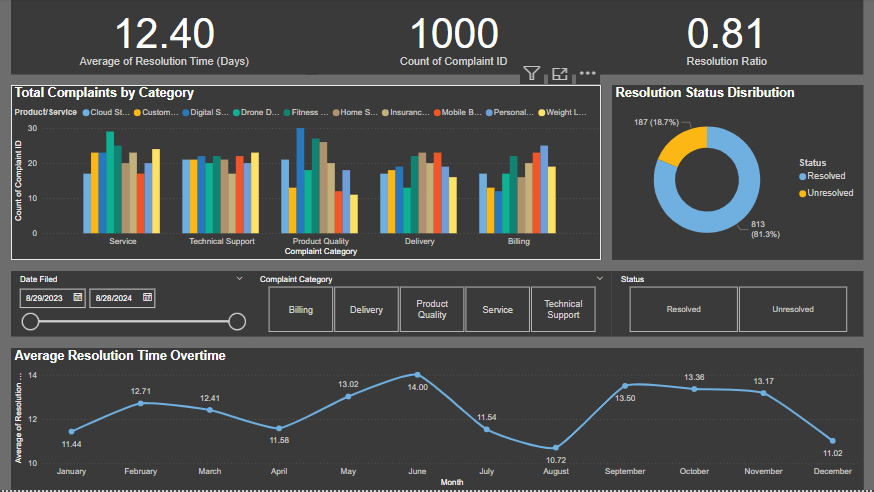

What the dashboard file says about the page in this screenshot:
{"tool":"powerbi","page":{"name":"Page 1","canvas":[1280,720],"ordinal":0},"visuals":[{"type":"card","fields":{"Values":["Avg(cleaned_complaints_dashboard.Resolution Time (Days))"]},"box":[16,0,448,112],"z":0},{"type":"card","fields":{"Values":["CountNonNull(cleaned_complaints_dashboard.Complaint ID)"]},"box":[448,0,432,112],"z":1},{"type":"card","fields":{"Values":["cleaned_complaints_dashboard.Resolution Ratio"]},"box":[864,0,400,112],"z":2},{"type":"clusteredColumnChart","title":"Total Complaints by Category","fields":{"Category":["cleaned_complaints_dashboard.Complaint Category"],"Series":["cleaned_complaints_dashboard.Product/Service"],"Y":["CountNonNull(cleaned_complaints_dashboard.Complaint ID)"]},"box":[16,128,864,256],"z":3},{"type":"donutChart","title":"Resolution Status Disribution","fields":{"Category":["cleaned_complaints_dashboard.Status"],"Y":["CountNonNull(cleaned_complaints_dashboard.Complaint ID)"]},"box":[896,128,368,256],"z":4},{"type":"lineChart","title":"Average Resolution Time Overtime","fields":{"Y":["Avg(cleaned_complaints_dashboard.Resolution Time (Days))"],"Category":["cleaned_complaints_dashboard.Date Filed.Variation.Date Hierarchy.Month"]},"box":[16,512,1248,208],"z":5},{"type":"slicer","fields":{"Values":["cleaned_complaints_dashboard.Complaint Category"]},"box":[368,400,528,96],"z":6},{"type":"slicer","fields":{"Values":["cleaned_complaints_dashboard.Date Filed"]},"box":[16,400,352,96],"z":7},{"type":"slicer","fields":{"Values":["cleaned_complaints_dashboard.Status"]},"box":[896,400,368,96],"z":8}]}

Visuals, with their boxes in screenshot pixels (x1, y1, x2, y2), scaled from the page's 1280x720 canvas onto the 874x492 screenshot:
card - Avg(cleaned_complaints_dashboard.Resolution Time (Days)): select_region(11, 0, 317, 77)
card - CountNonNull(cleaned_complaints_dashboard.Complaint ID): select_region(306, 0, 601, 77)
card - cleaned_complaints_dashboard.Resolution Ratio: select_region(590, 0, 863, 77)
"Total Complaints by Category" clusteredColumnChart: select_region(11, 87, 601, 262)
"Resolution Status Disribution" donutChart: select_region(612, 87, 863, 262)
"Average Resolution Time Overtime" lineChart: select_region(11, 350, 863, 491)
slicer - cleaned_complaints_dashboard.Complaint Category: select_region(251, 273, 612, 339)
slicer - cleaned_complaints_dashboard.Date Filed: select_region(11, 273, 251, 339)
slicer - cleaned_complaints_dashboard.Status: select_region(612, 273, 863, 339)
